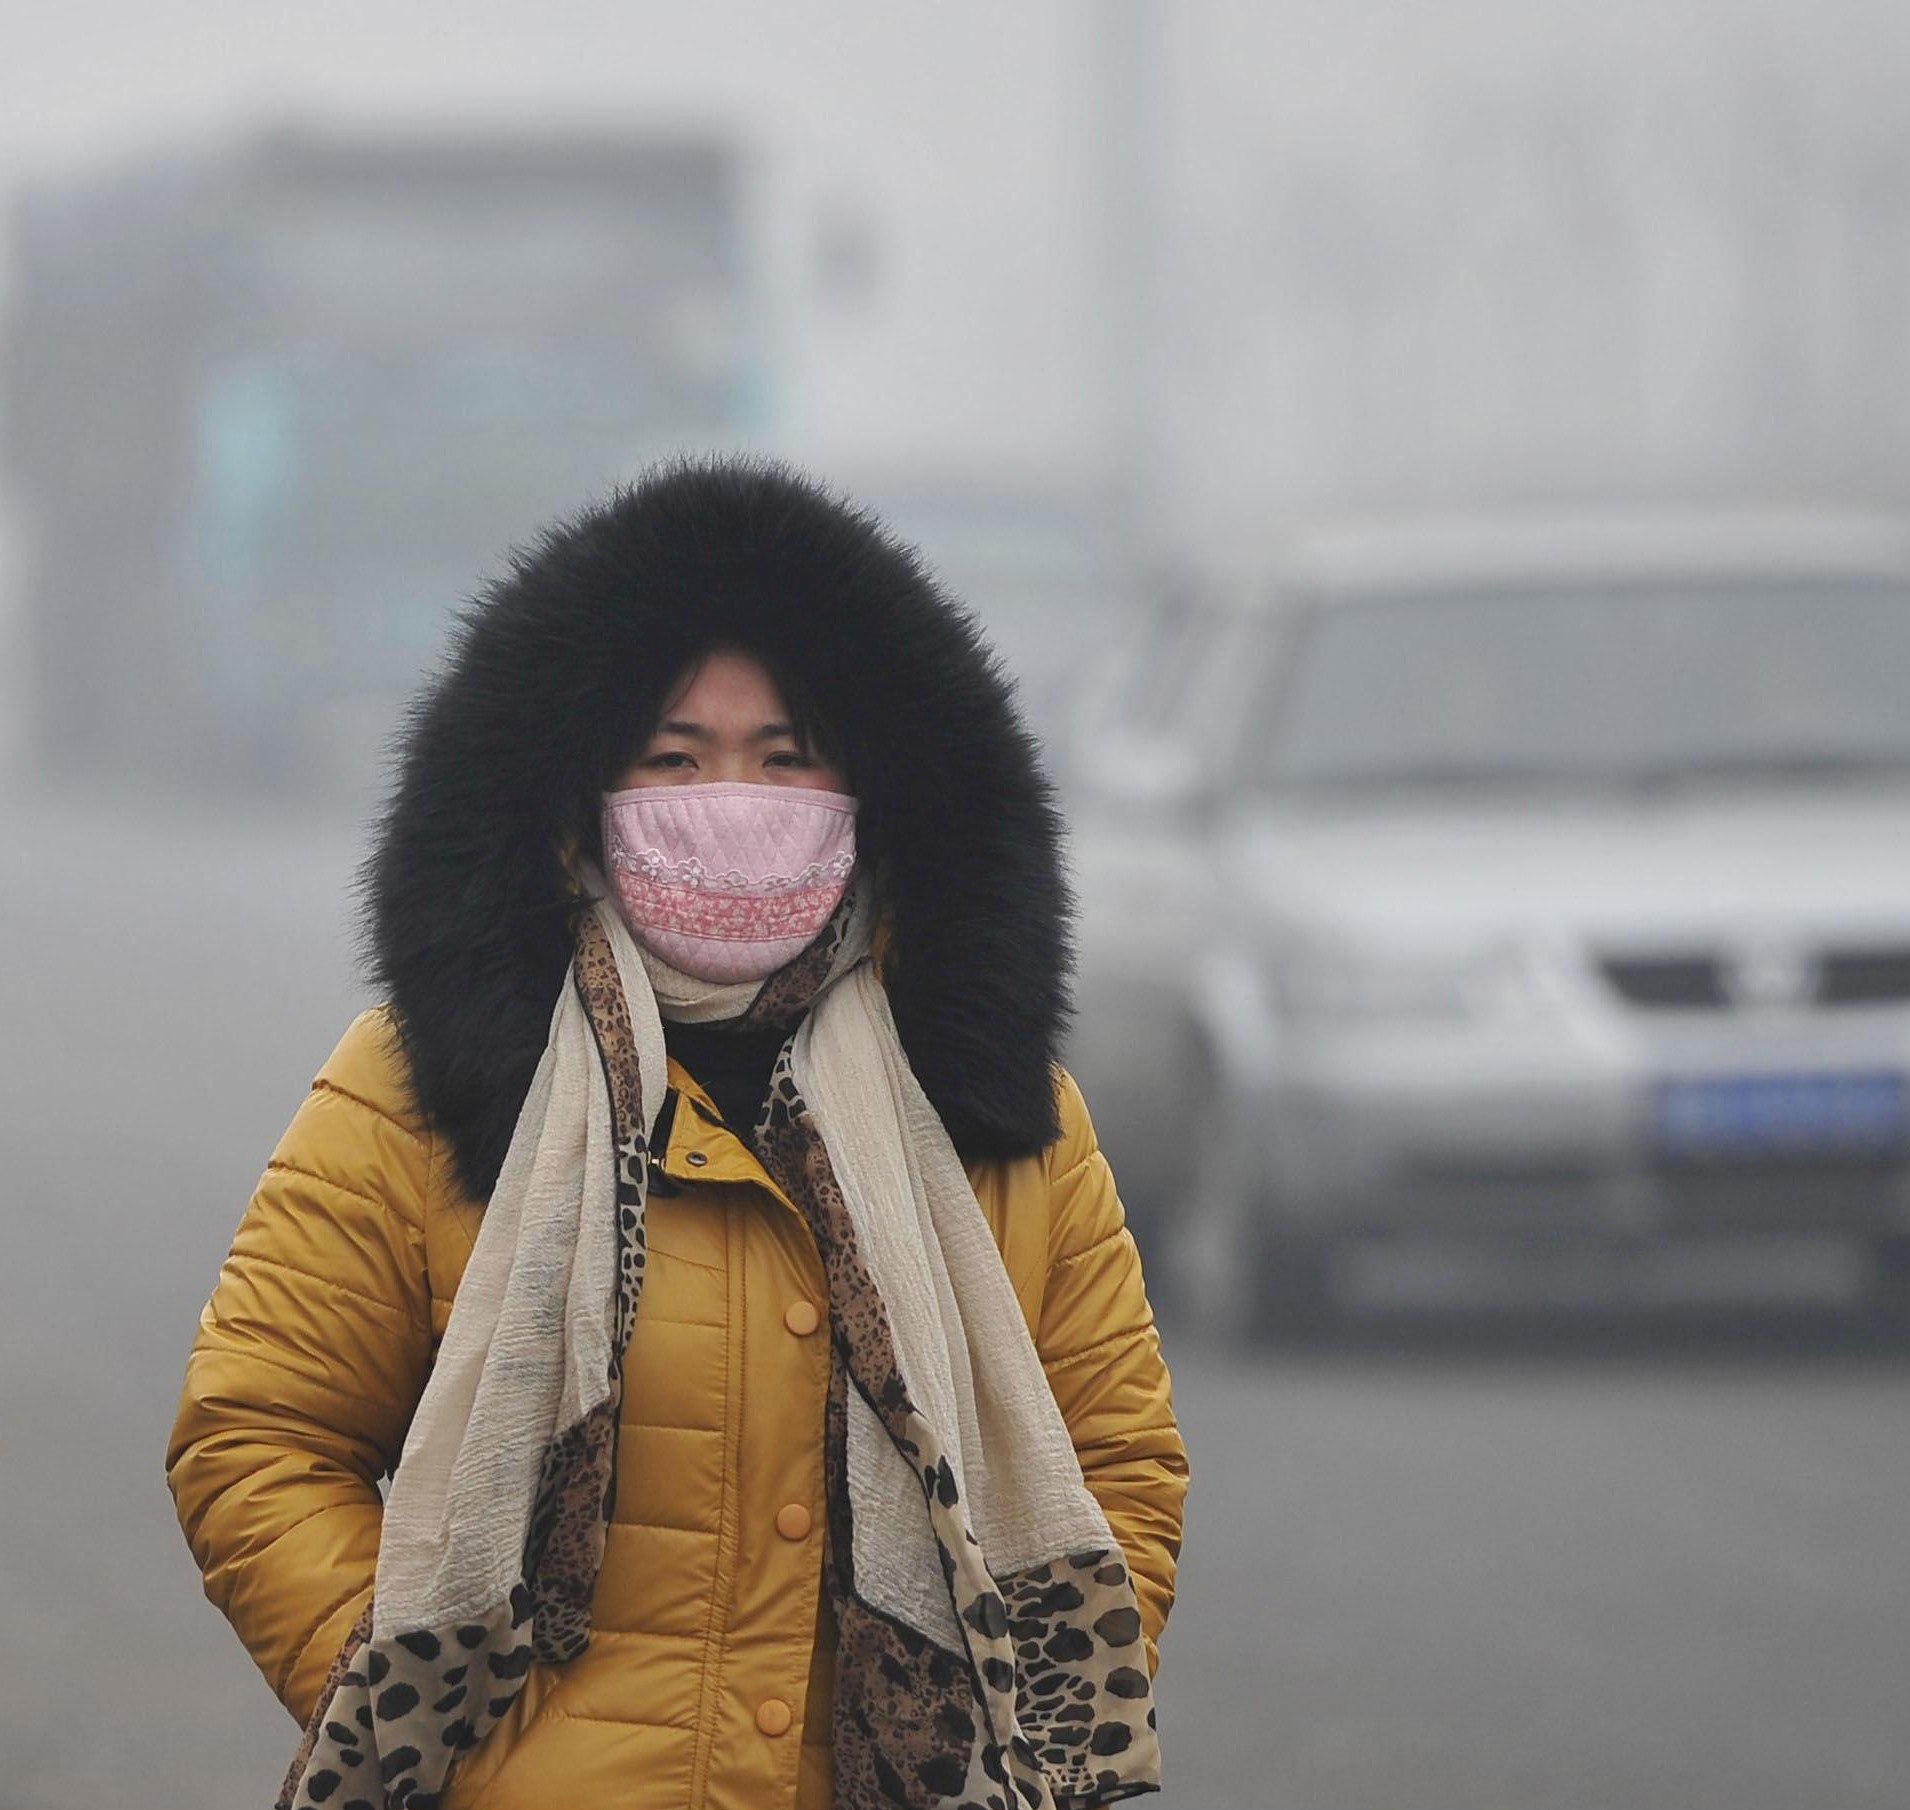with_mask: (568, 649, 864, 980)
